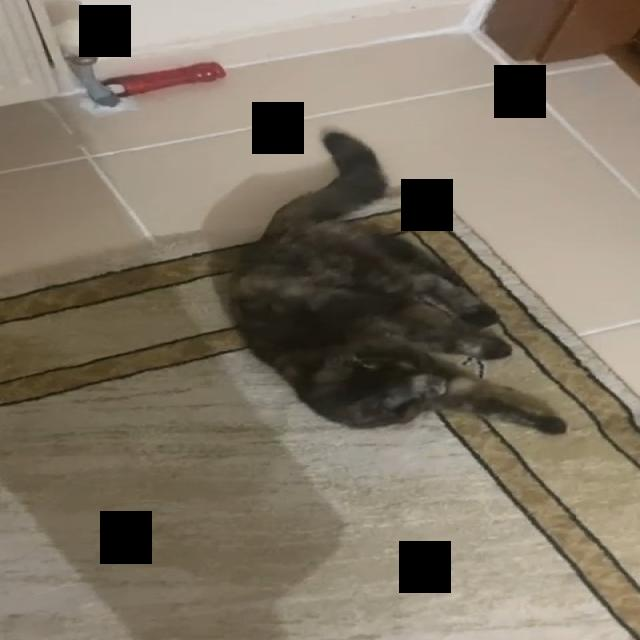authorized: (225, 127, 568, 436)
